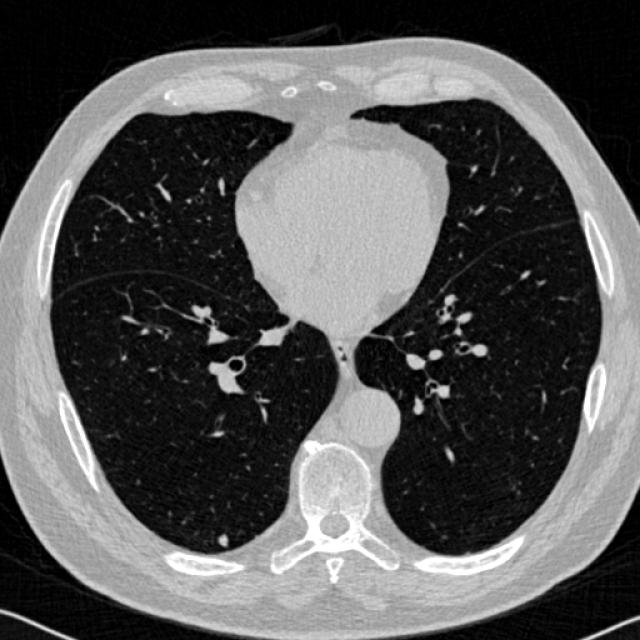nodule: (210, 528, 235, 552)
